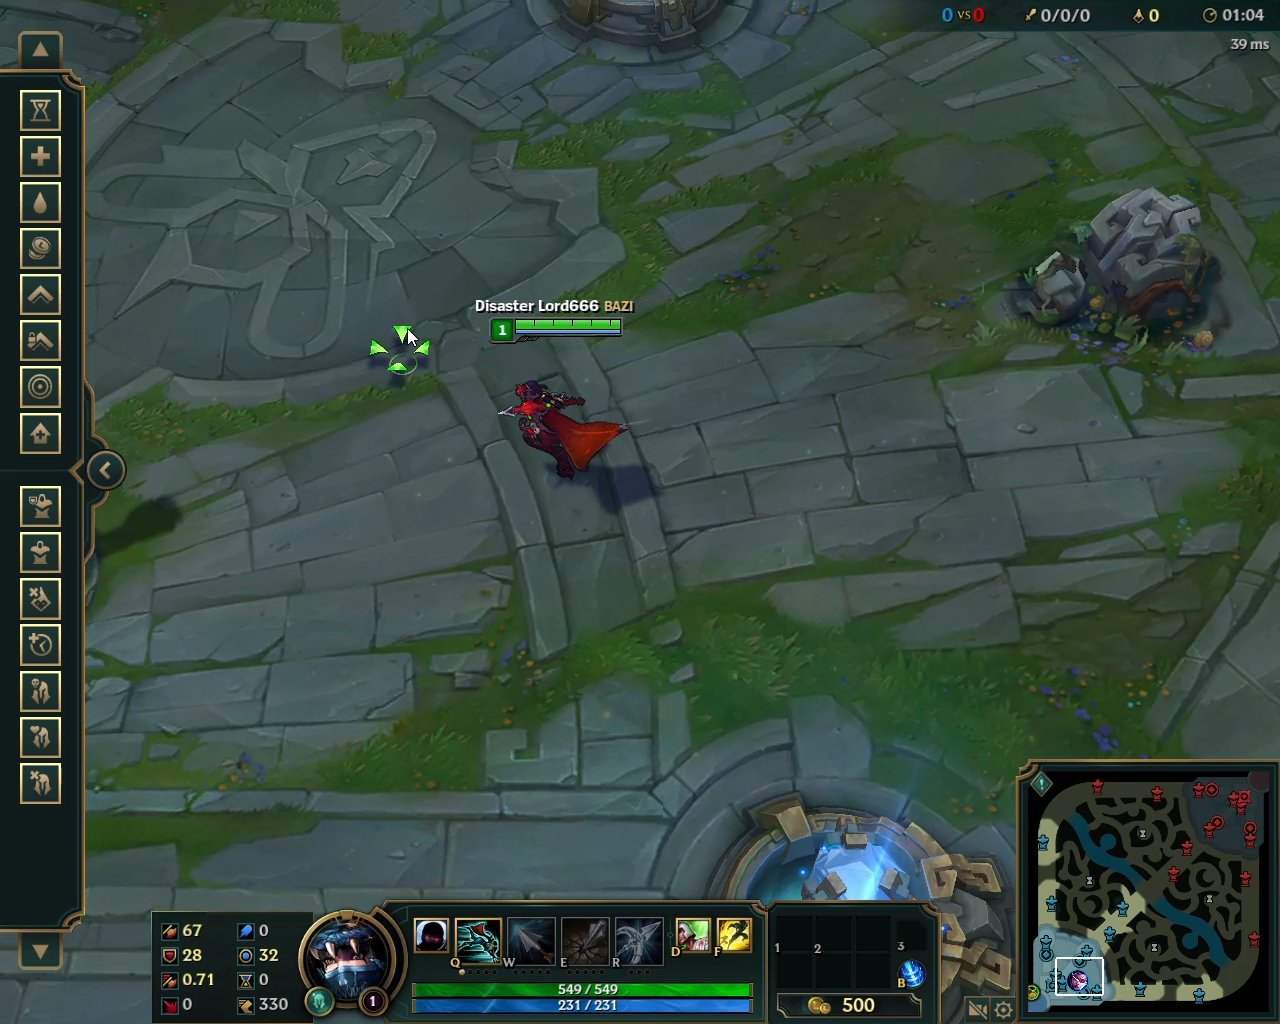Vayne: (489, 376, 636, 487)
